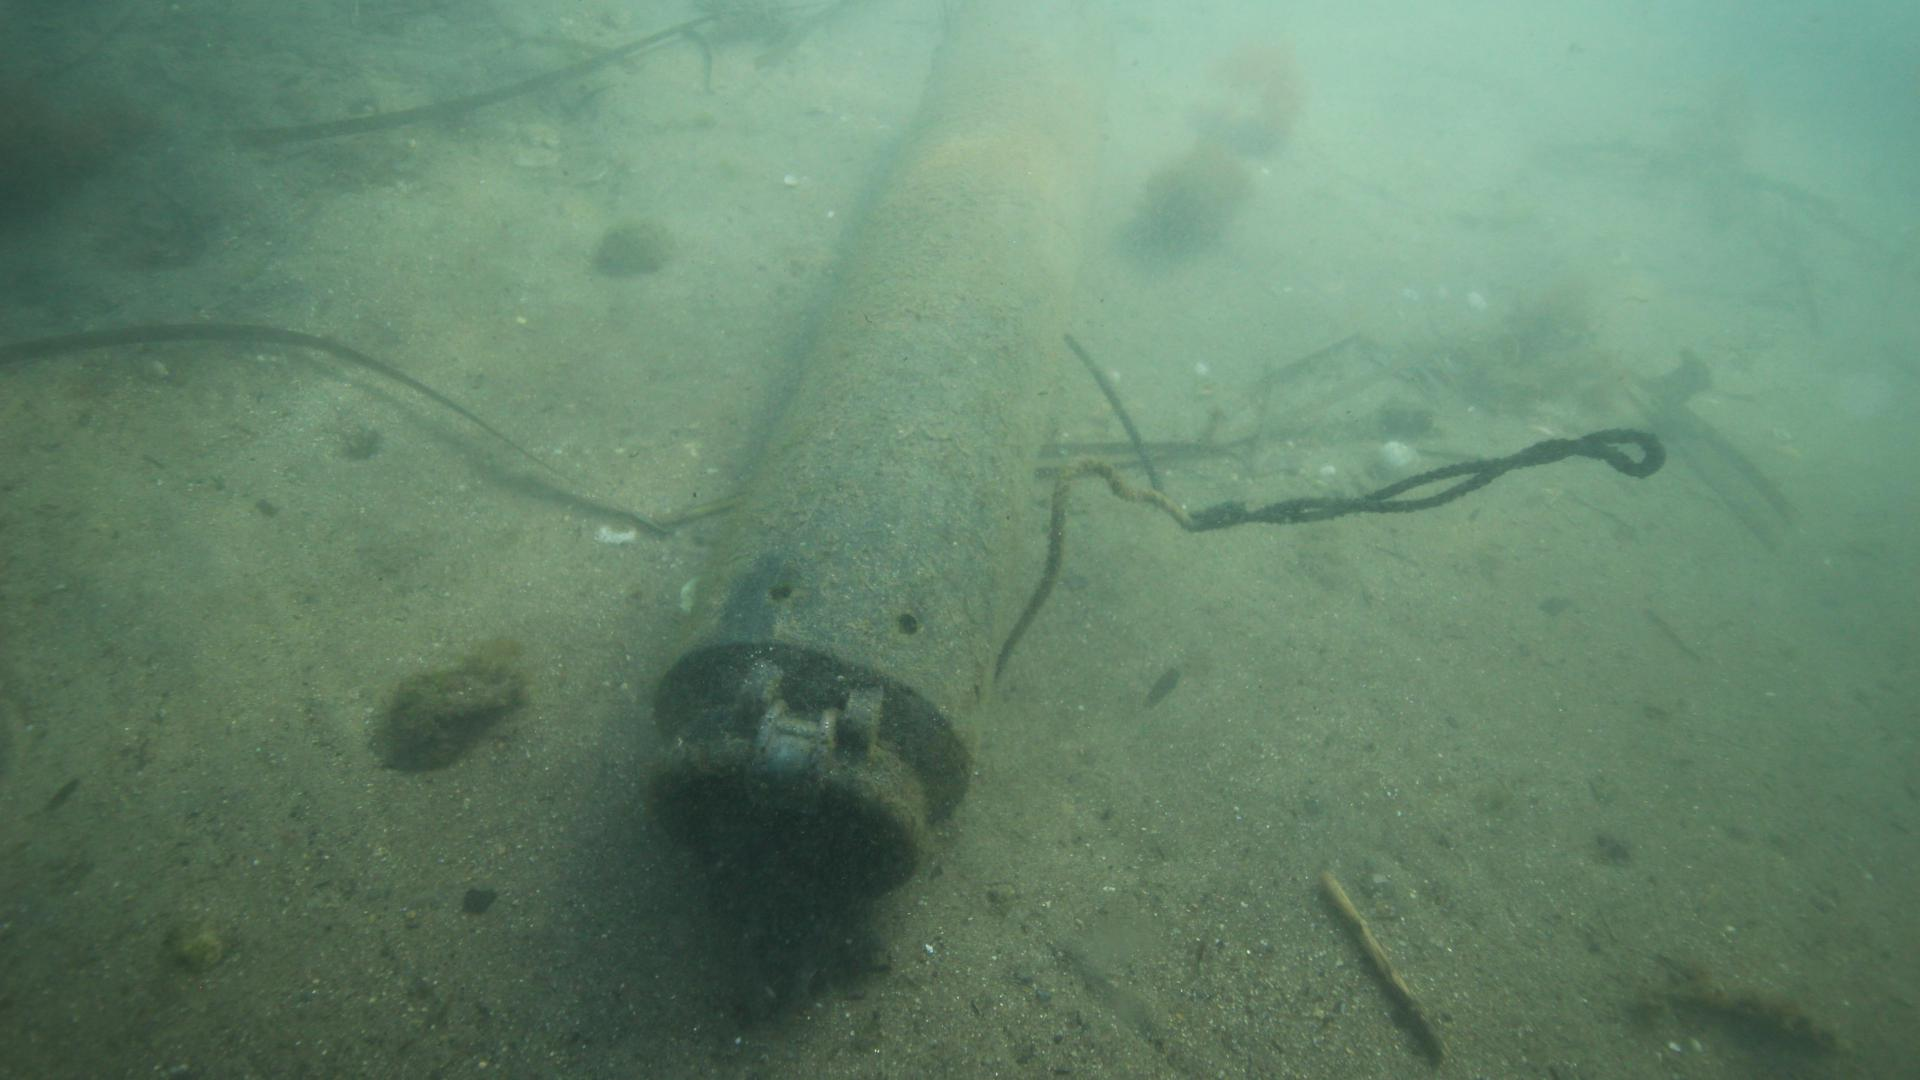eel fish trap: (645, 0, 1120, 895)
rope: (994, 328, 1665, 678)
